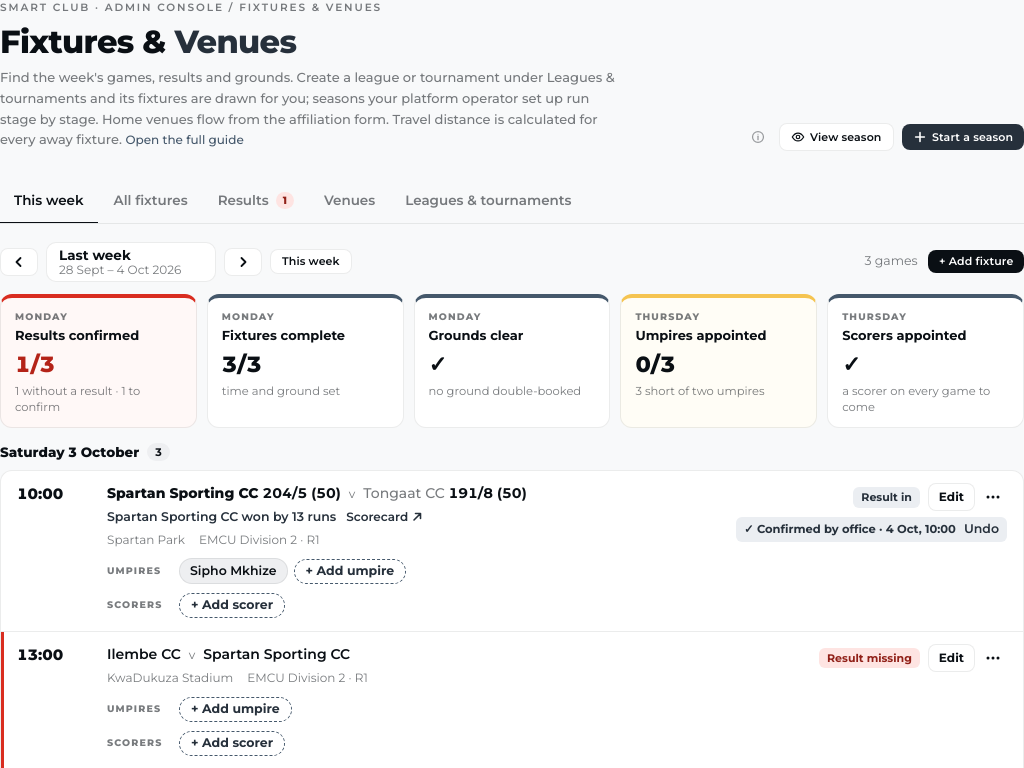
it: This week › refuses a team playing itself before anything is sent
Click the button "+ Add fixture": (976, 262) [928,250,1023,273]
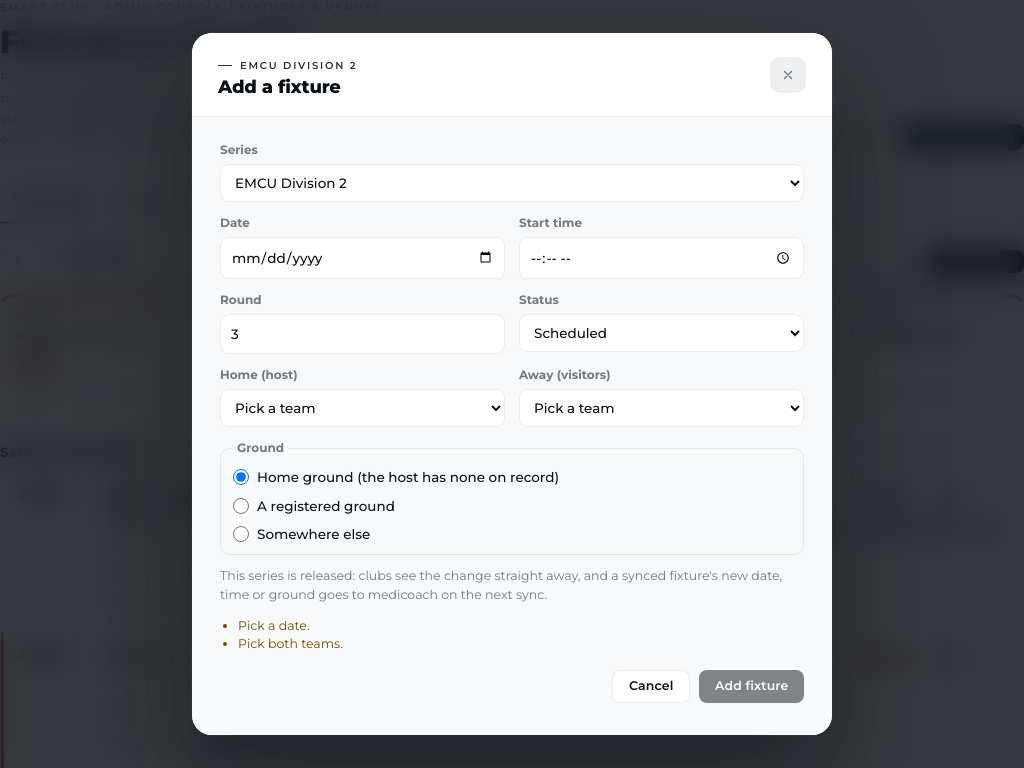
In the date field labelled "Date": (362, 258) [220,237,505,279], type "2026-10-17"
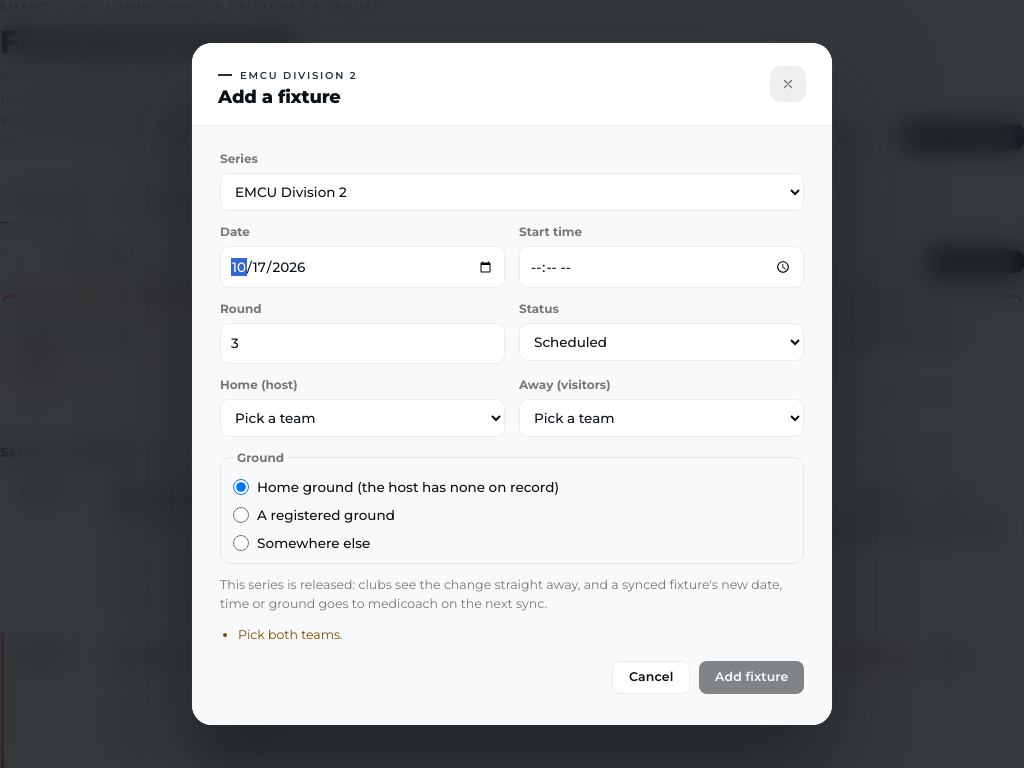
Select "Ilembe CC" in the dropdown labelled "Home (host)": (362, 418) [220,399,505,437]
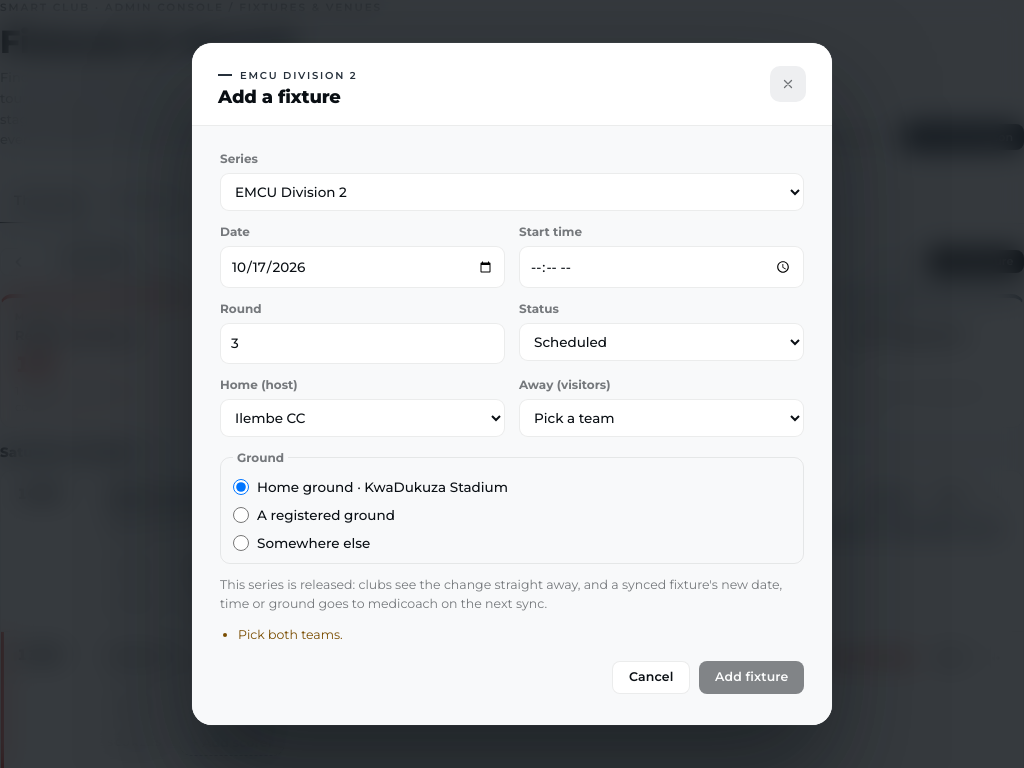
Select "Ilembe CC" in the dropdown labelled "Away (visitors)": (662, 418) [519,399,804,437]
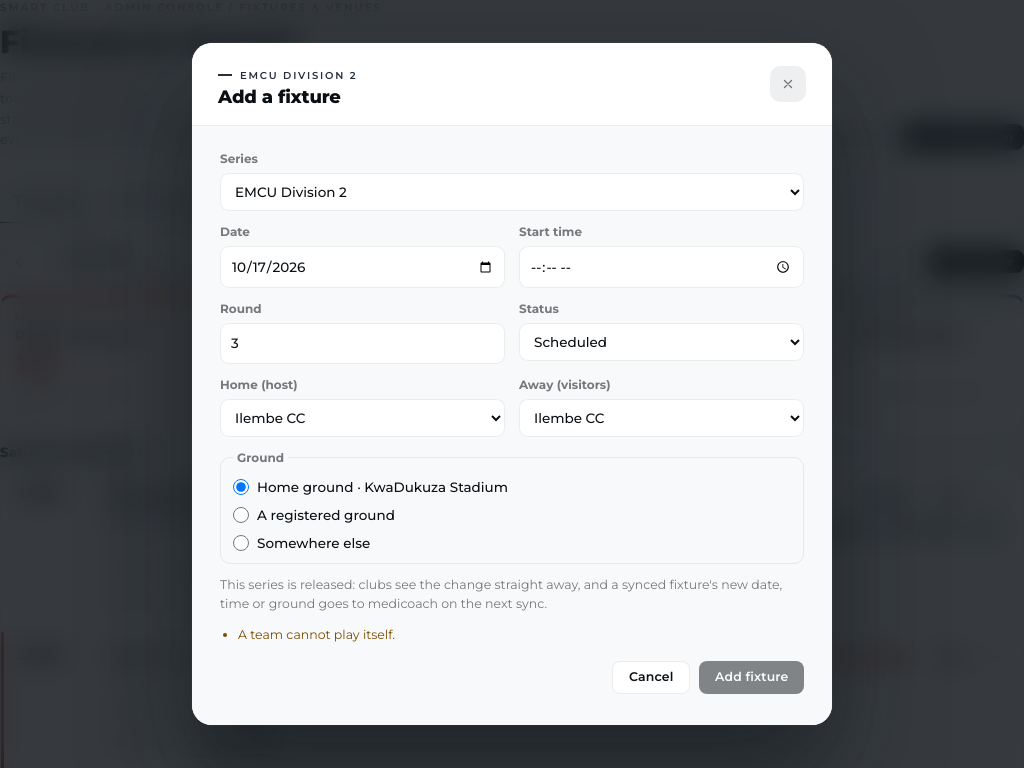
Expected: the button "Add fixture" is disabled, [699,661,804,693]
Expected: the list item "A team cannot play itself." is shown, [238,627,395,642]
